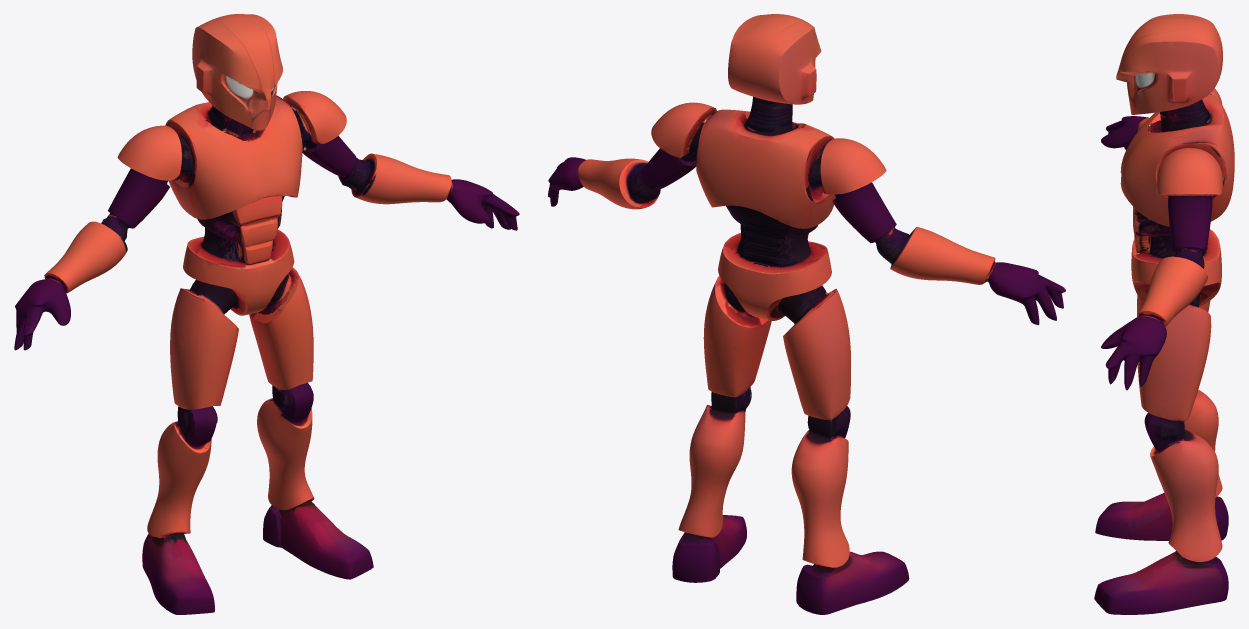
Rendered from base_basic_pbr.glb.
The picture shows the model from 3 angles, left to right: view 1: azimuth 30°, elevation 25°; view 2: azimuth 150°, elevation 25°; view 3: azimuth 270°, elevation 25°; orthographic projection. The views are drawn at different scales.
Parts seen in each view (by area): view 1: model; view 2: model; view 3: model.
Boxes of the visible parts, x1=… form: model: x1=14, y1=14, x2=519, y2=614; model: x1=548, y1=14, x2=1065, y2=614; model: x1=1094, y1=14, x2=1234, y2=614.
Bounding box in the file's own units: 1.8 × 1.9 × 0.4439.
Materials: 1 (1 with a texture image).
